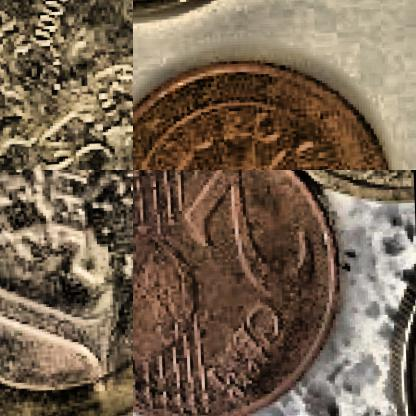coin: (133, 170, 348, 415), (133, 43, 414, 169), (0, 170, 132, 415), (0, 0, 132, 169)
